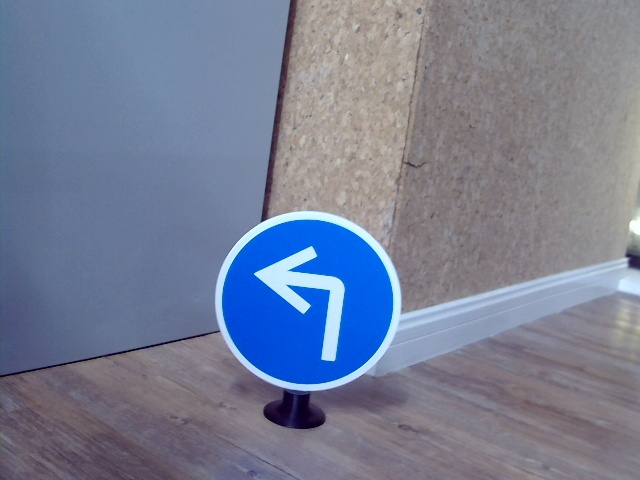turn_left: (250, 240, 352, 361)
